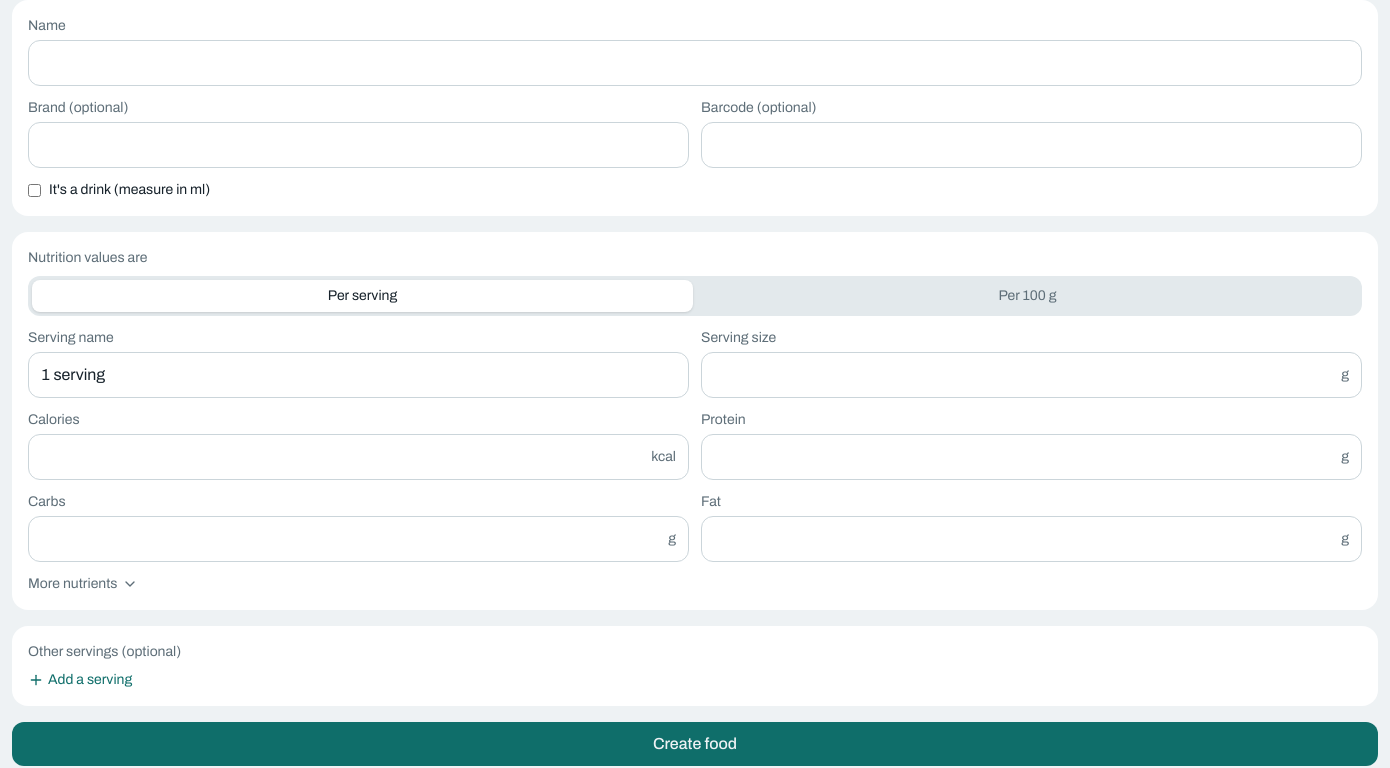
Test case: CustomFoodForm › requires a name, a serving size and calories
Click the button "Create food" at (695, 744), box [12,722,1378,766]
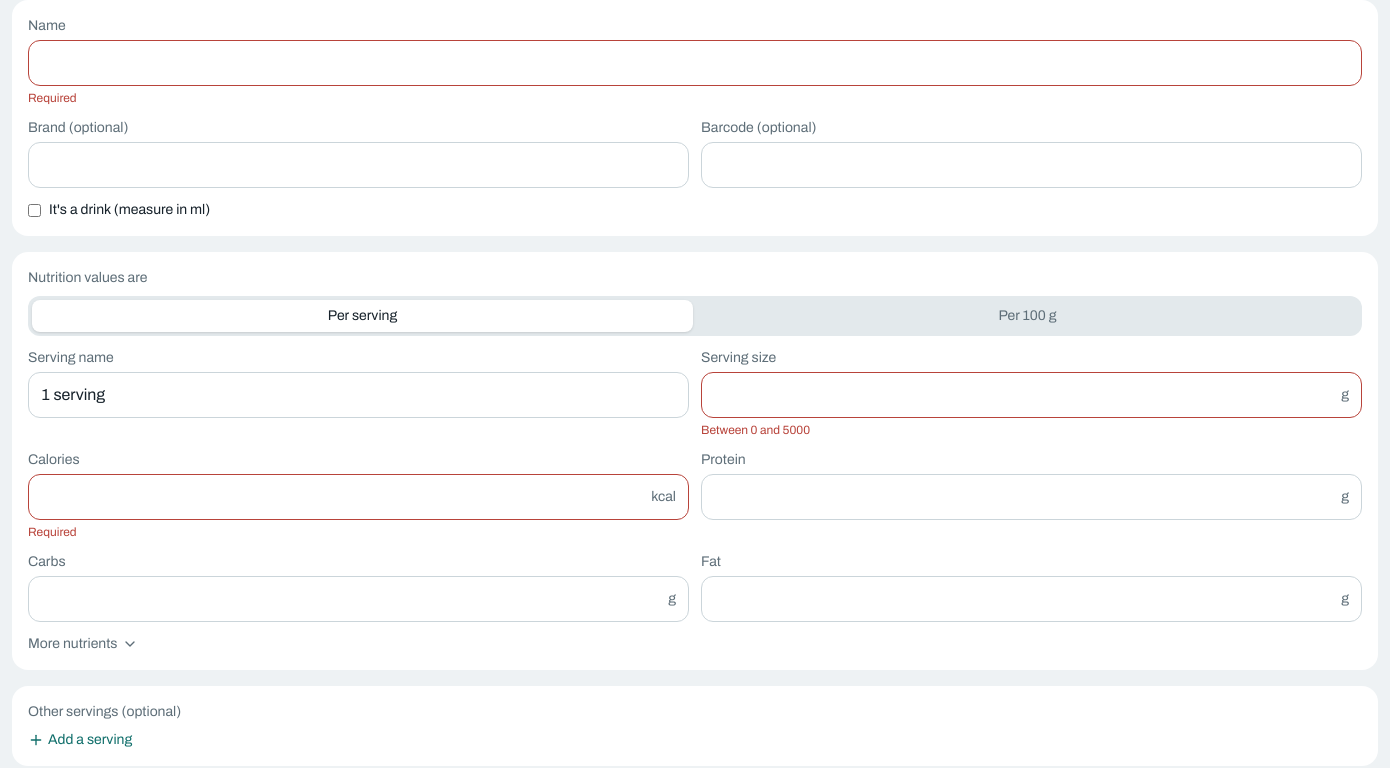
Expected: the text "Required" is shown 2 times, [28,91,77,105]; [28,525,77,539]
Expected: the text "Between 0 and 5000" is shown, [701,423,810,437]
